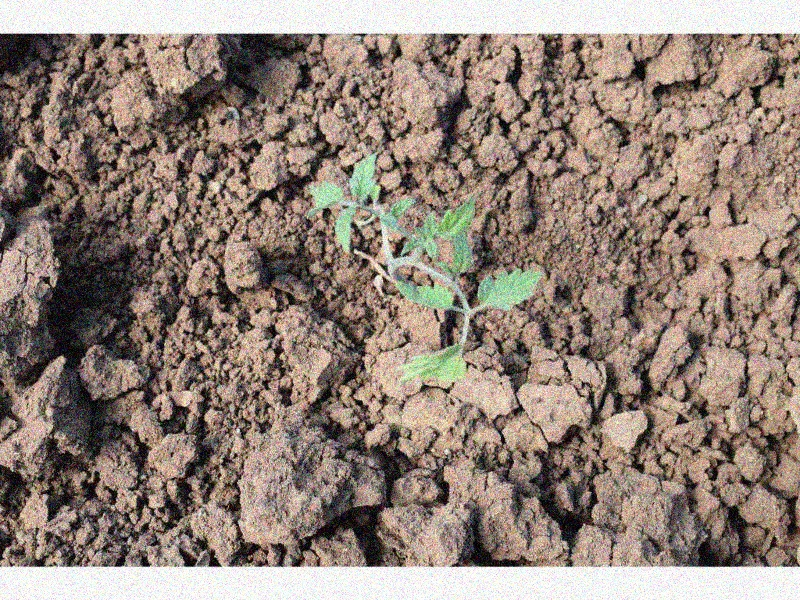tomato: (307, 151, 540, 383)
